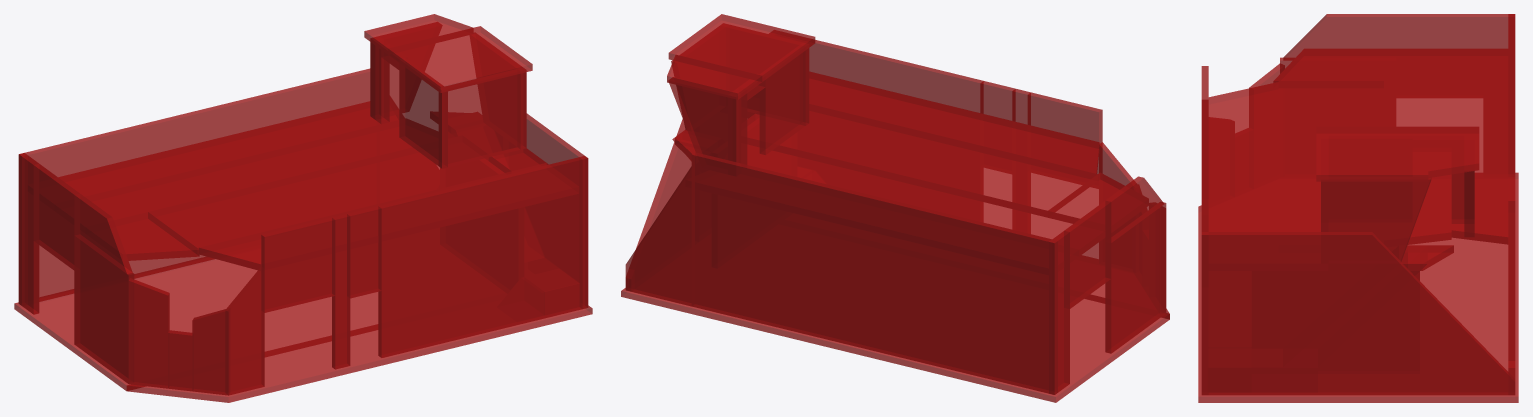
Rendered from SM_Bld_Shop_07_Destroyed_Collision.fbx.
3 views of the same model, side by side, from view 1: azimuth 30°, elevation 25°; view 2: azimuth 150°, elevation 25°; view 3: azimuth 270°, elevation 25° (orthographic). The views are drawn at different scales.
Parts seen in each view (by area): view 1: SM_Bld_Shop_07_Destroyed_Collision; view 2: SM_Bld_Shop_07_Destroyed_Collision; view 3: SM_Bld_Shop_07_Destroyed_Collision.
Boxes of the visible parts, x1,y1,x2,y2 form: SM_Bld_Shop_07_Destroyed_Collision: (14, 14, 592, 402); SM_Bld_Shop_07_Destroyed_Collision: (621, 14, 1169, 402); SM_Bld_Shop_07_Destroyed_Collision: (1198, 14, 1518, 402).
Size of the model in its own units: 1520 by 714 by 919.
